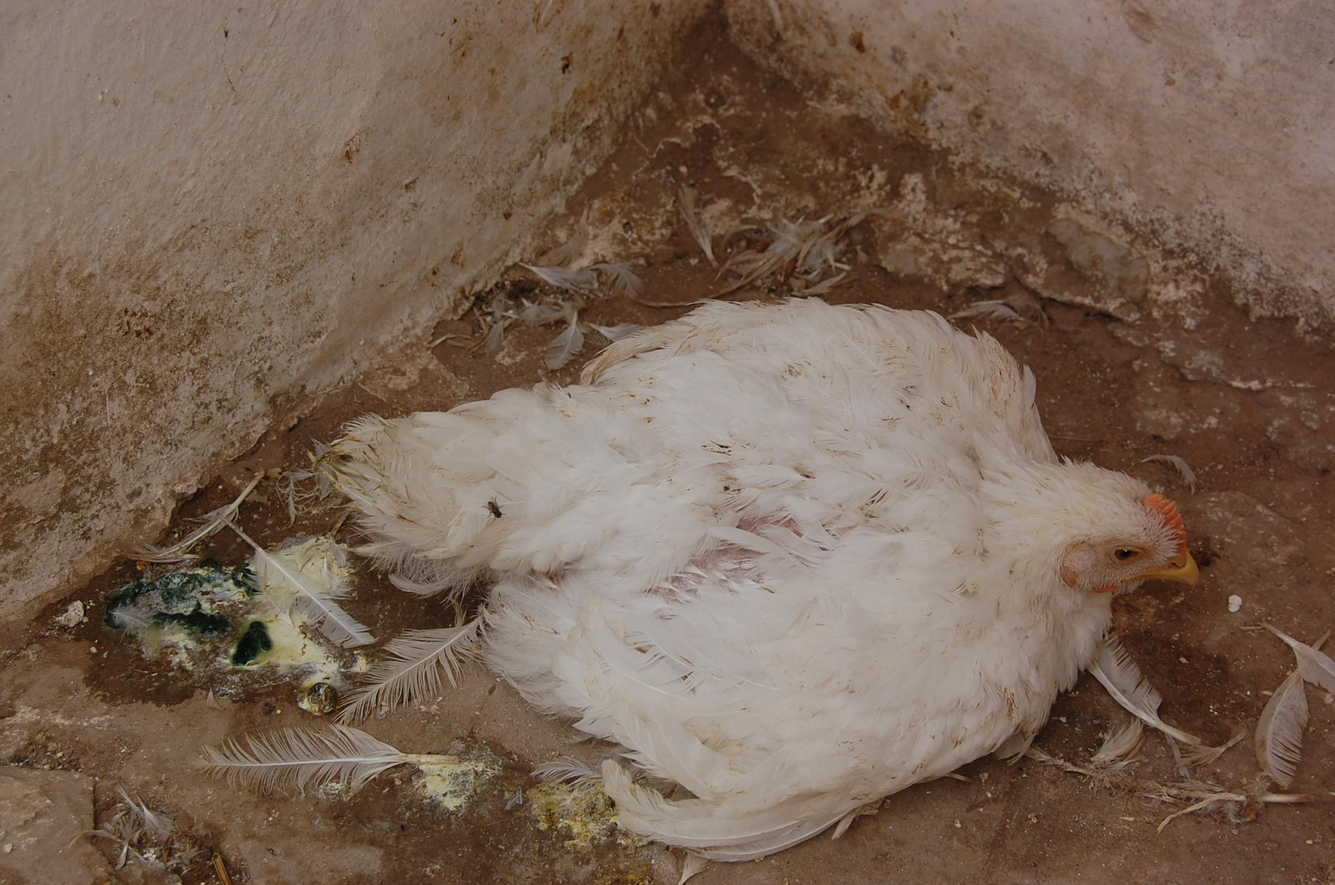AbNormal: (308, 306, 1198, 863)
